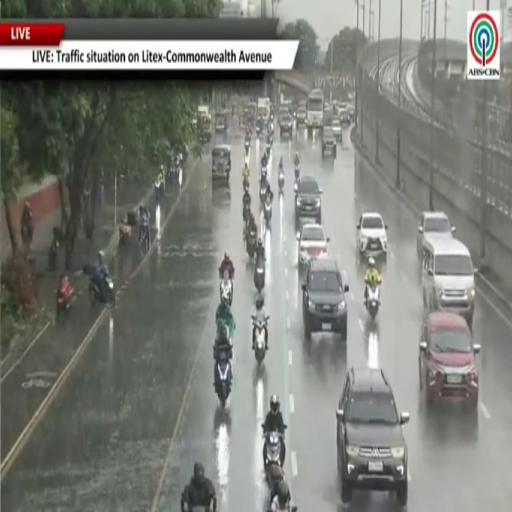bus: (306, 89, 324, 129)
car: (336, 367, 409, 506), (419, 312, 480, 408), (303, 259, 348, 341), (417, 212, 455, 257), (356, 213, 387, 259), (297, 224, 329, 265), (295, 176, 321, 223), (212, 144, 231, 183), (322, 125, 336, 157), (280, 114, 293, 136), (331, 118, 342, 142), (340, 108, 351, 125), (296, 106, 306, 124), (348, 104, 356, 122), (324, 103, 331, 111)
motorcycle: (262, 424, 284, 474), (215, 350, 232, 407), (252, 316, 269, 363), (89, 276, 115, 305), (57, 280, 73, 321), (366, 285, 380, 319), (220, 270, 233, 306), (254, 257, 266, 292), (48, 238, 59, 271), (140, 218, 150, 249), (21, 221, 32, 247), (119, 223, 131, 246), (246, 232, 256, 259), (264, 198, 272, 226), (154, 180, 164, 200), (243, 202, 250, 222), (260, 181, 266, 202), (279, 170, 284, 194), (243, 175, 250, 190), (245, 139, 250, 156), (261, 166, 267, 180), (293, 179, 298, 194), (267, 141, 271, 157), (295, 164, 299, 180), (256, 124, 260, 137)
truck: (257, 98, 270, 122)
